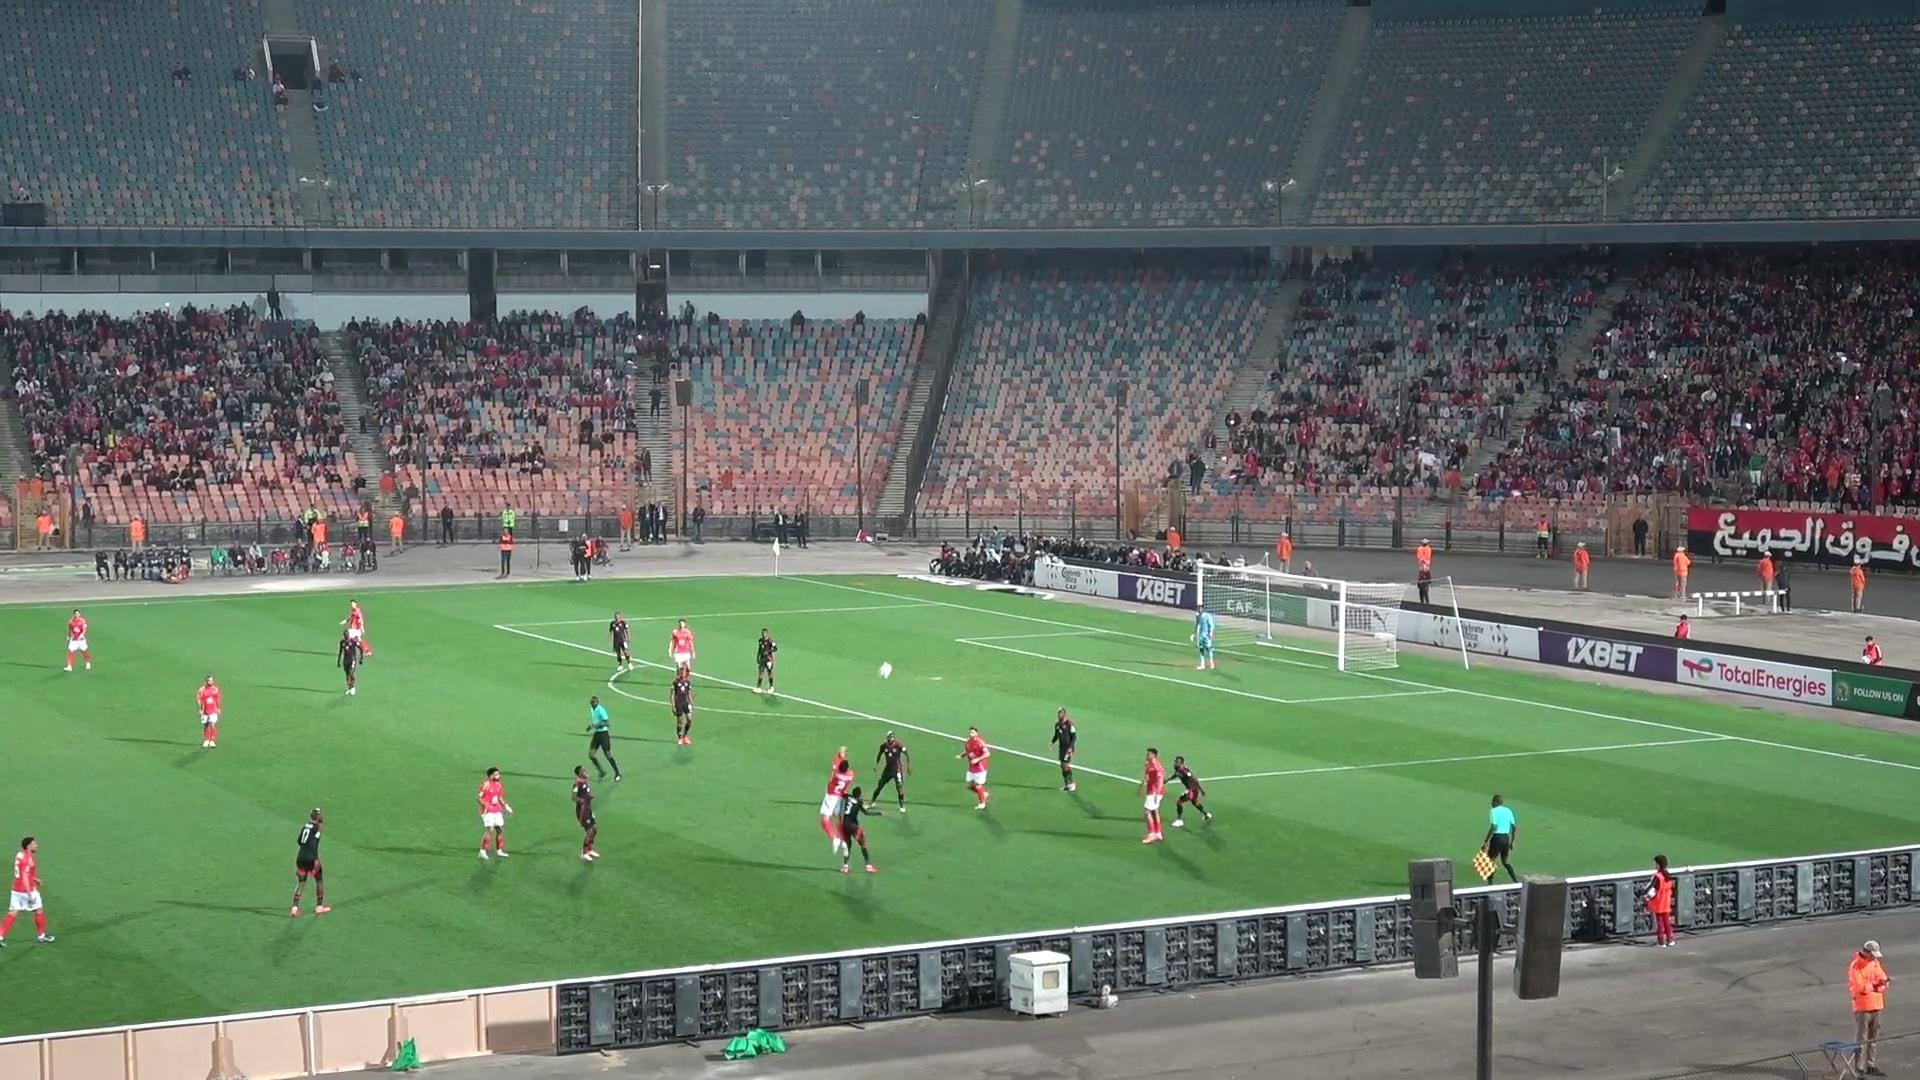Ball: (876, 659, 894, 680)
GK2: (1191, 571, 1218, 669)
Refree: (1473, 794, 1520, 884), (587, 696, 622, 781)
Team1: (0, 837, 54, 945), (822, 746, 860, 873), (476, 767, 513, 858), (956, 727, 992, 808), (1139, 748, 1166, 843), (340, 600, 373, 657), (62, 611, 94, 669), (196, 676, 222, 748), (669, 618, 696, 671)
Team2: (287, 808, 331, 916), (837, 769, 876, 873), (1166, 757, 1215, 827), (869, 732, 910, 812), (570, 766, 597, 858), (1048, 708, 1077, 793), (338, 629, 372, 695), (670, 666, 696, 745), (753, 628, 778, 694), (607, 611, 633, 669)
